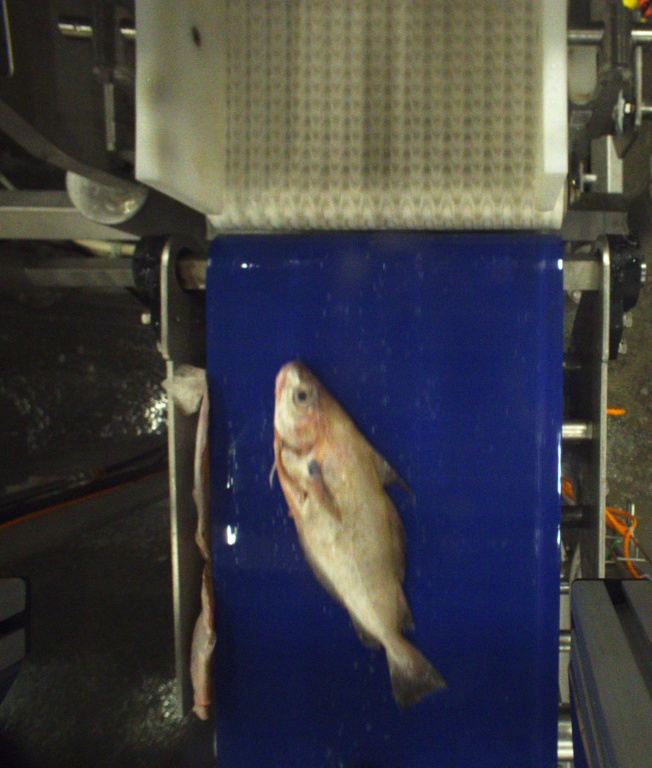BIB: (263, 357, 444, 716)
